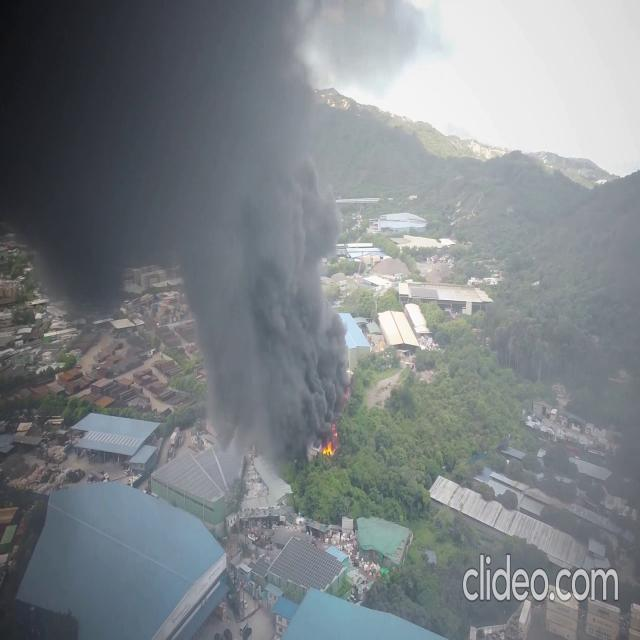Fire: (316, 430, 338, 459)
Smoke: (0, 3, 374, 386)
